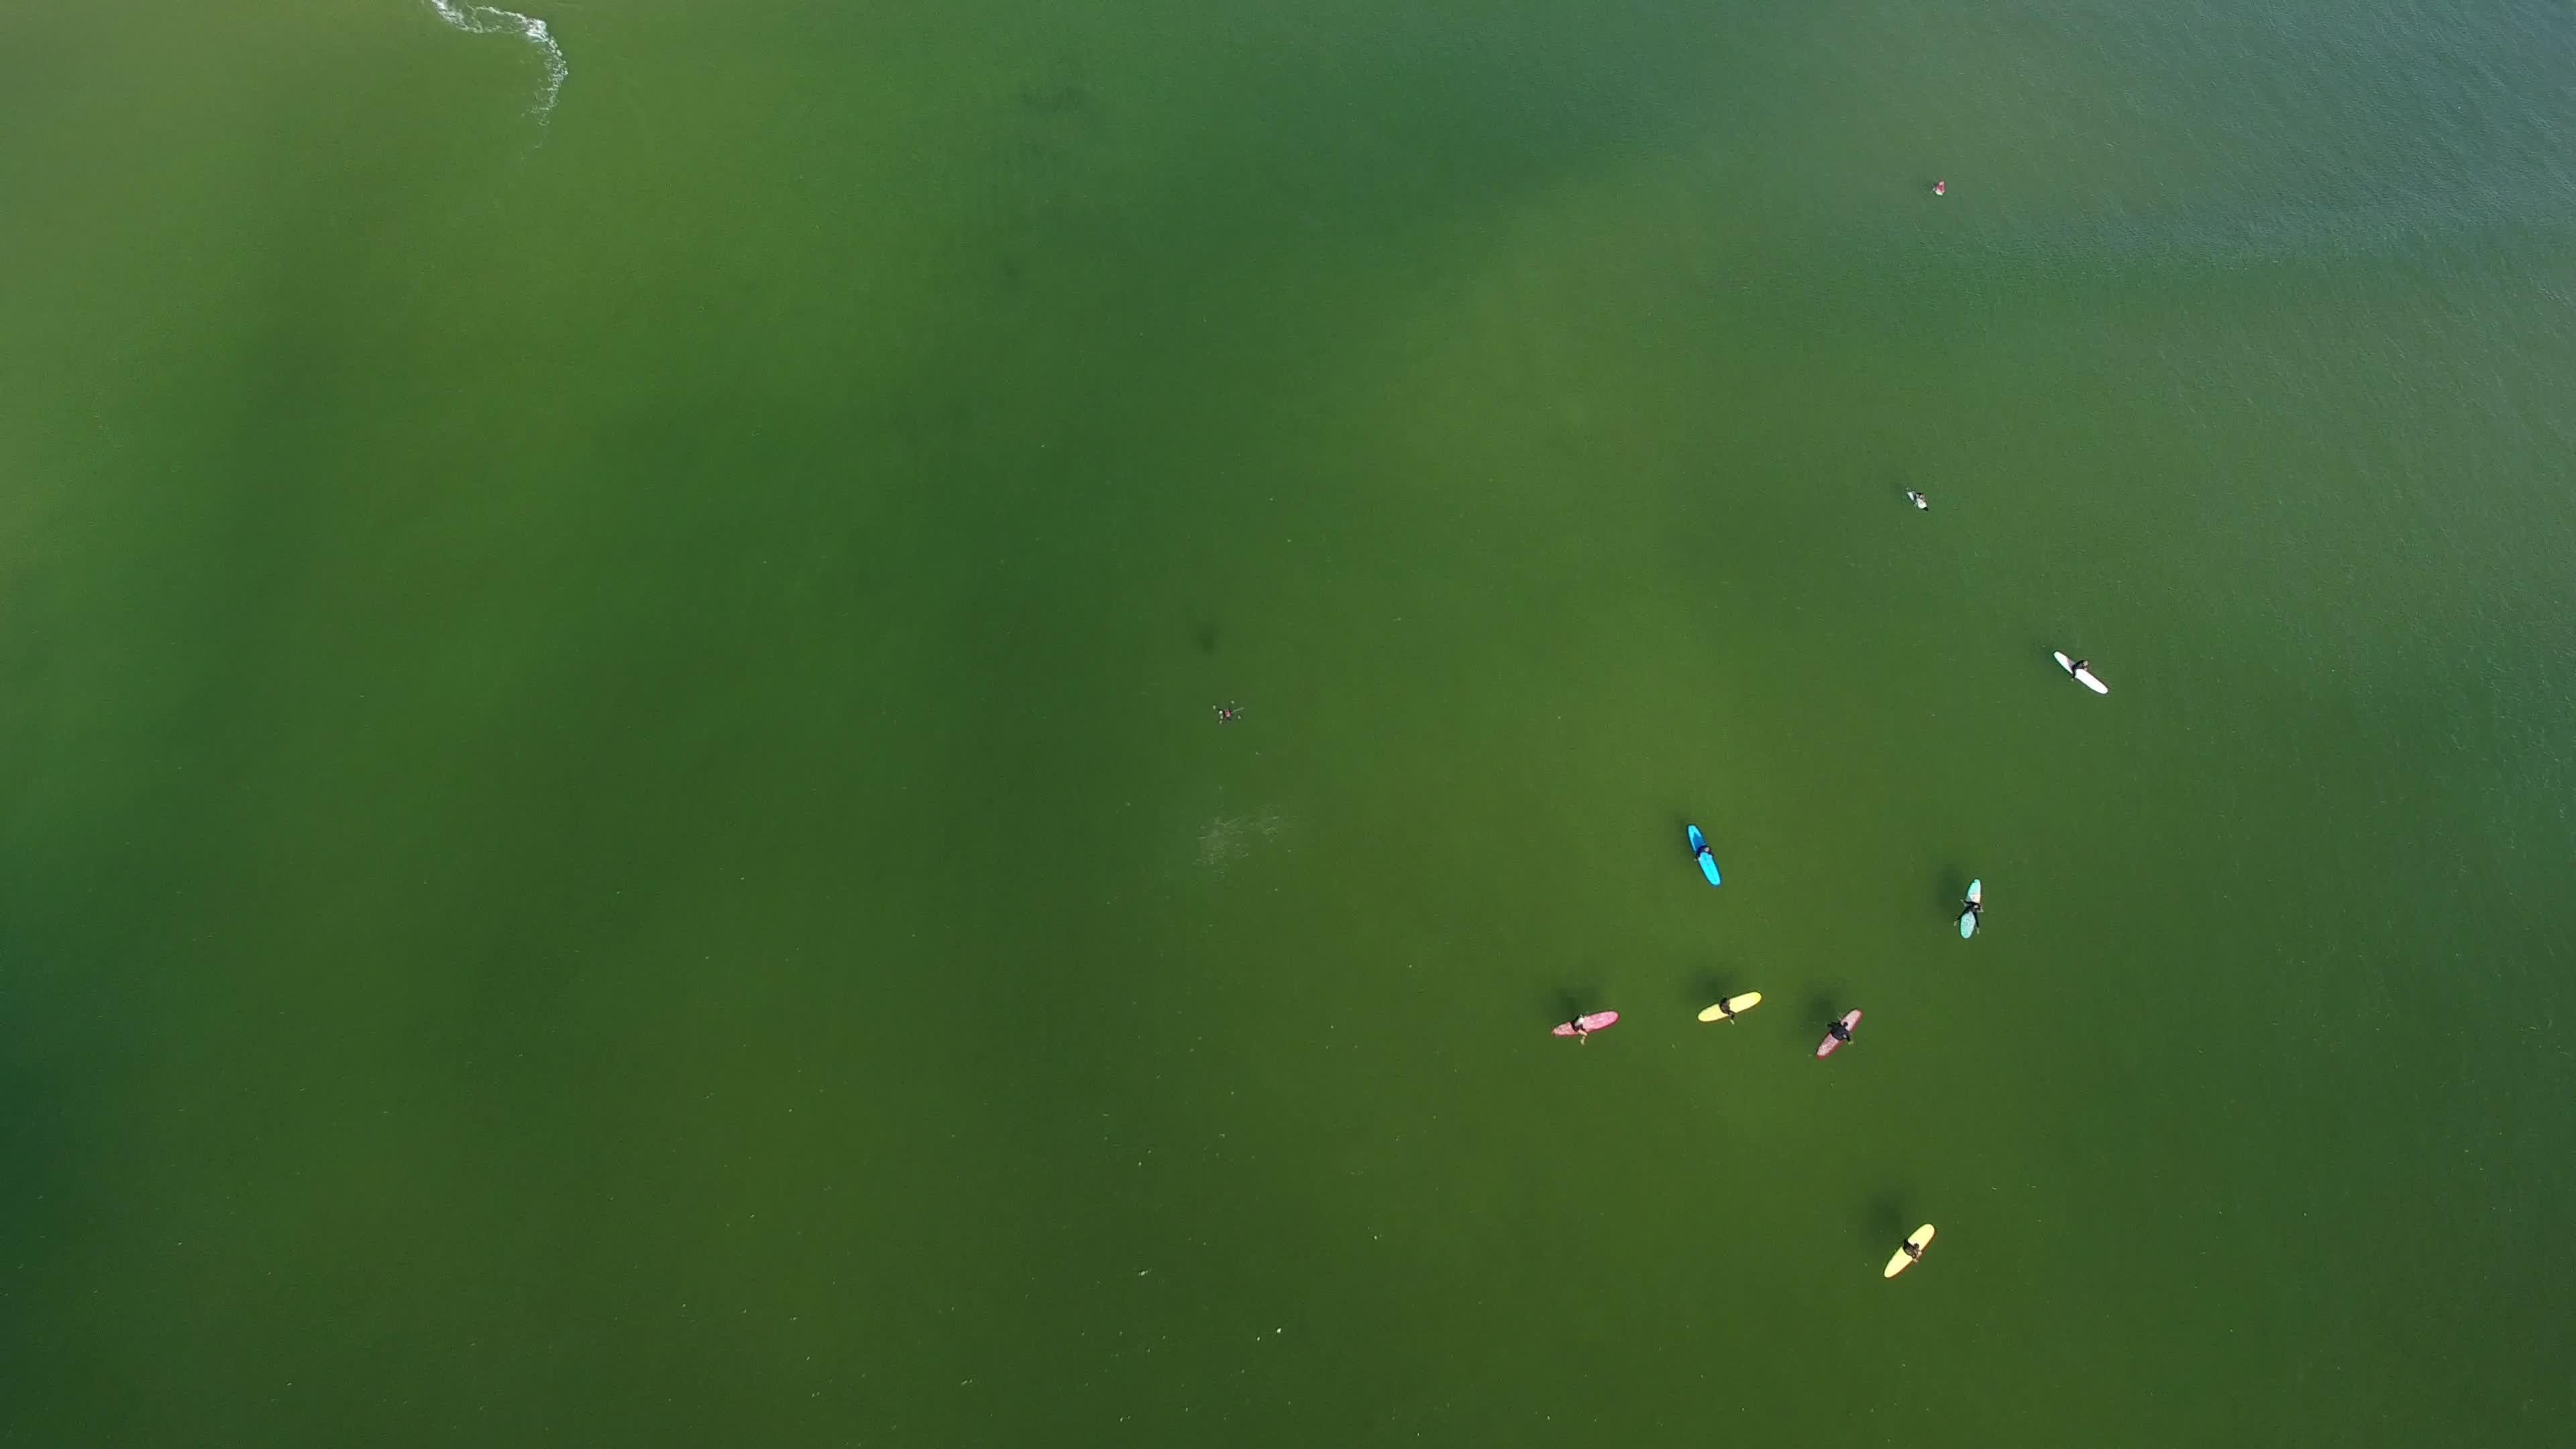surfer: (1539, 998, 1633, 1056), (2045, 633, 2120, 704), (1681, 810, 1730, 895), (1697, 980, 1769, 1035), (1879, 1217, 1937, 1284), (1815, 998, 1867, 1063), (1948, 878, 1996, 945), (1888, 481, 1939, 517), (1921, 170, 1953, 198)
